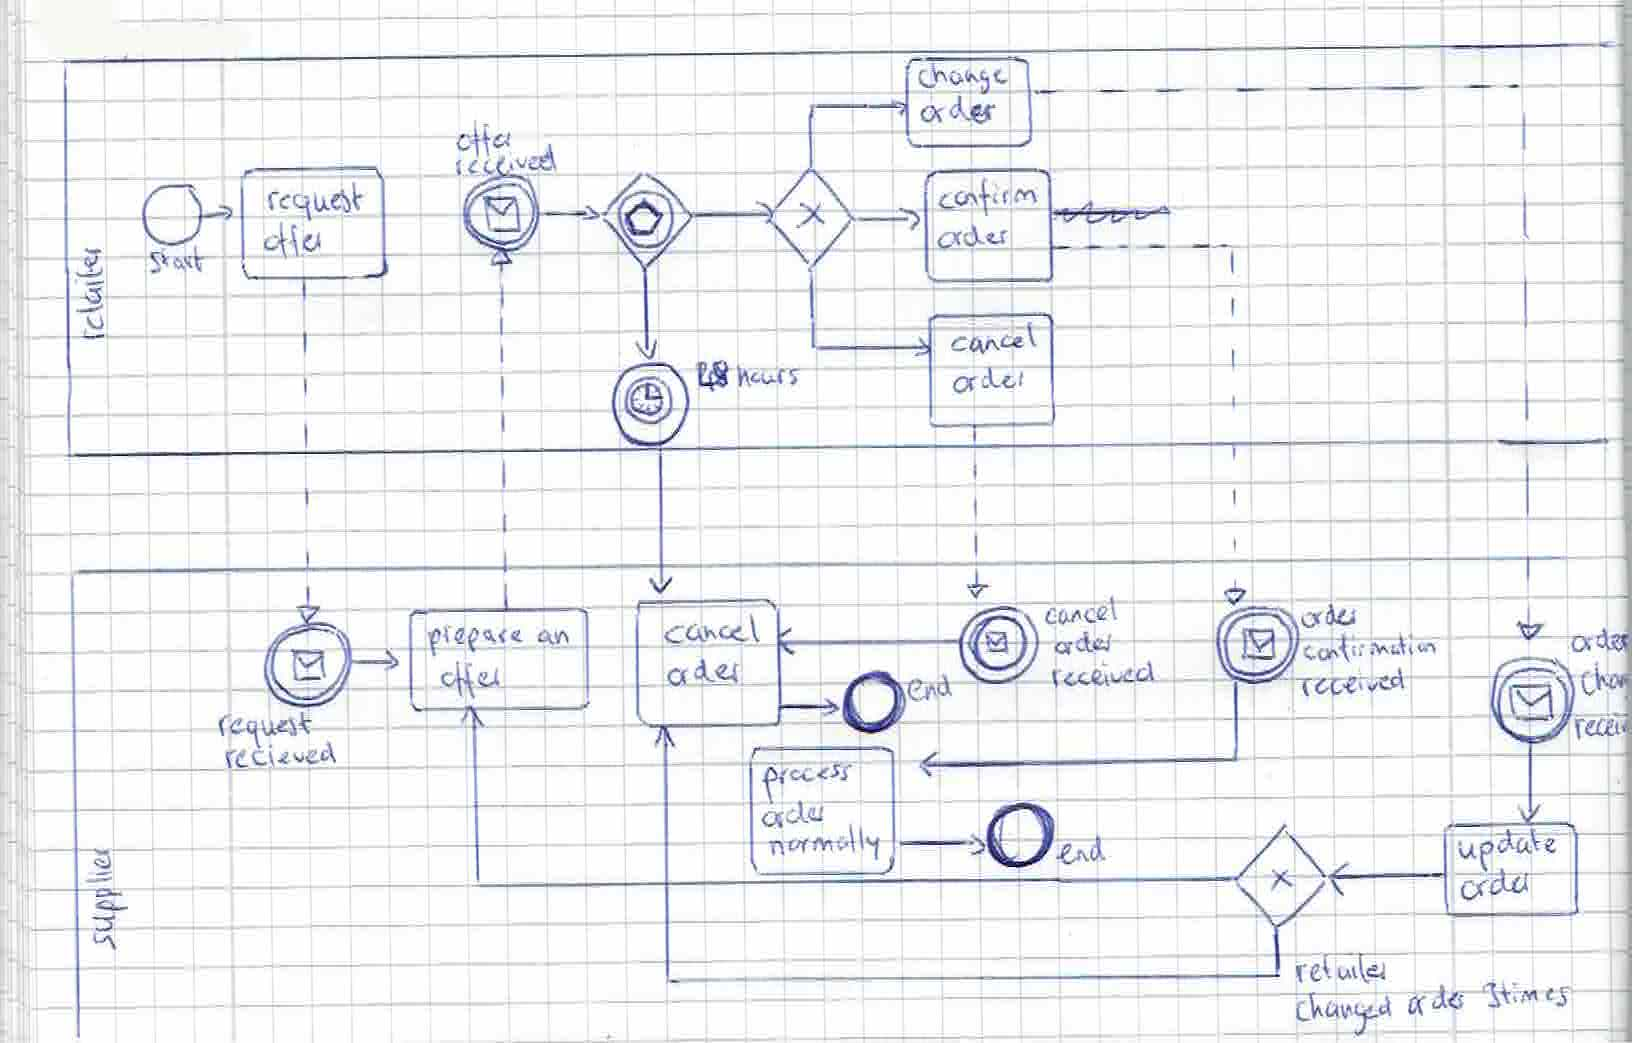3: (1474, 975, 1504, 1013)
48: (692, 354, 729, 392)
Start: (147, 249, 205, 275)
an: (538, 624, 573, 652)
cancel: (667, 615, 768, 647), (953, 323, 1042, 358), (1044, 598, 1122, 630)
change: (916, 63, 1008, 90), (1574, 662, 1631, 702)
changed: (1291, 989, 1394, 1022)
confirm: (937, 181, 1038, 214)
confirmation: (1298, 636, 1439, 667)
end: (900, 670, 958, 710), (1053, 832, 1109, 863)
hours: (734, 364, 801, 391)
normally: (773, 827, 878, 871)
offer: (435, 658, 504, 697), (261, 222, 324, 259), (452, 122, 515, 158)
order: (1458, 867, 1529, 903), (672, 656, 746, 689), (919, 98, 999, 125), (761, 798, 826, 831), (954, 367, 1025, 396), (939, 225, 1011, 252), (1052, 629, 1112, 660), (1298, 603, 1358, 632), (1571, 630, 1630, 656), (1410, 988, 1463, 1012)
prepare: (425, 624, 534, 654)
process: (762, 758, 854, 791)
received: (1297, 667, 1411, 702), (453, 146, 559, 180), (1046, 661, 1159, 691), (1573, 716, 1630, 741)
recieved: (222, 740, 335, 773)
request: (262, 183, 366, 218), (215, 711, 315, 741)
retailer: (76, 249, 113, 343), (1291, 956, 1388, 988)
supplier: (80, 846, 126, 951)
times: (1499, 979, 1569, 1016)
update: (1460, 830, 1561, 867)
